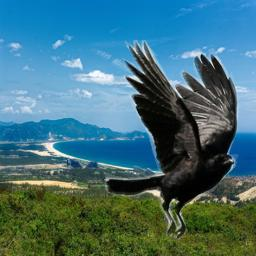Crow: (105, 40, 240, 244)
